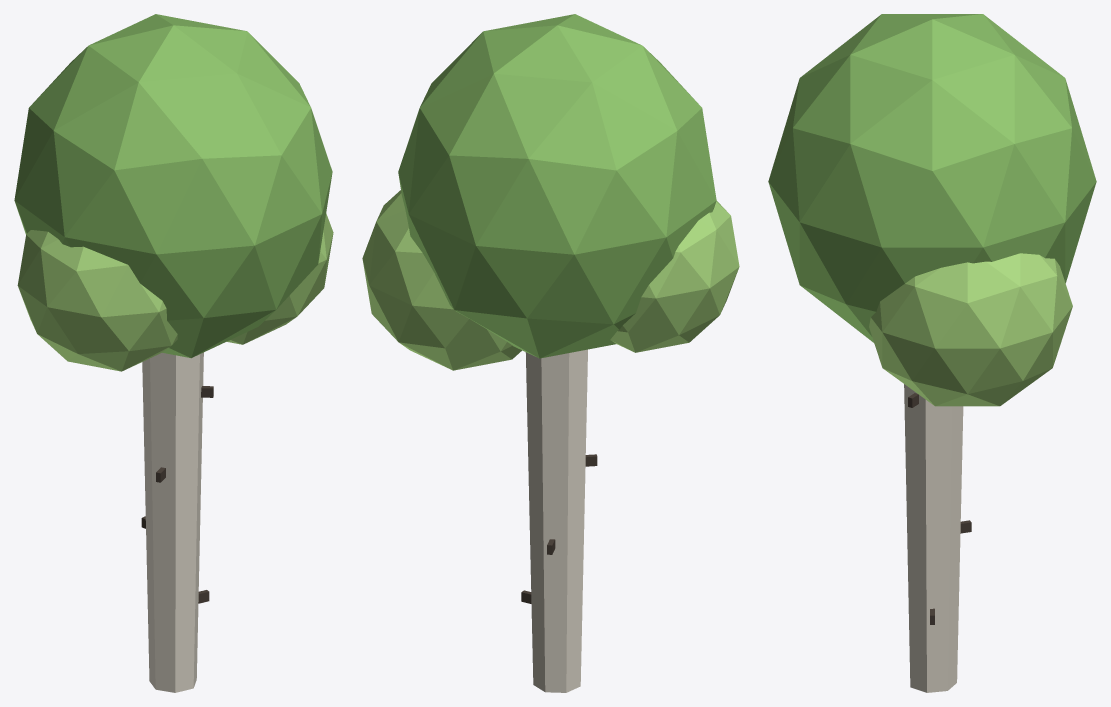
File: tree_birch.glb
3 renders of one model, left to right at view 1: azimuth 30°, elevation 25°; view 2: azimuth 150°, elevation 25°; view 3: azimuth 270°, elevation 25°, orthographic.
Visible parts, largest first — view 1: tree_birch; view 2: tree_birch; view 3: tree_birch.
Boxes of the visible parts, x1=… form: tree_birch: x1=14, y1=14, x2=333, y2=692; tree_birch: x1=362, y1=14, x2=739, y2=692; tree_birch: x1=768, y1=14, x2=1096, y2=692.
Bounding box in the file's own units: 2.09 × 4.17 × 1.87.
